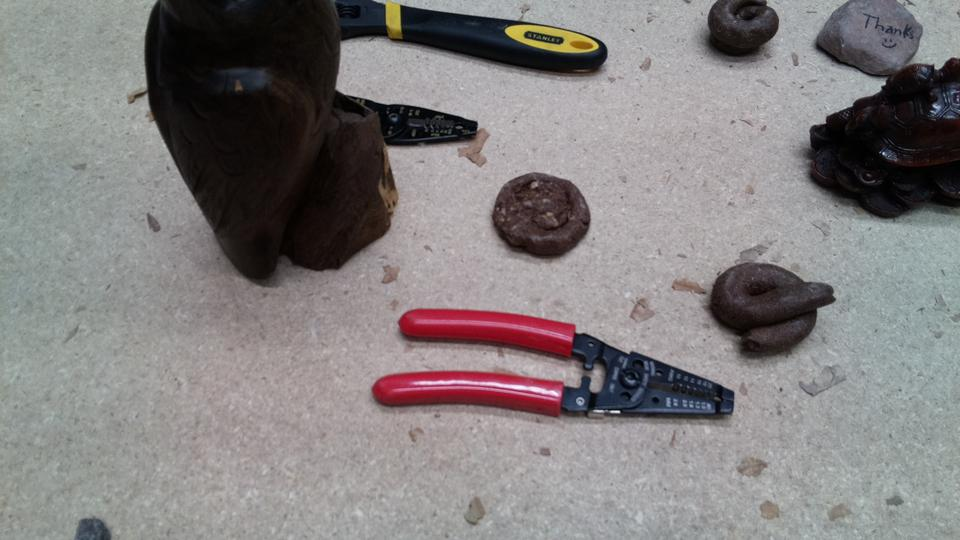poop: (705, 259, 838, 359), (489, 169, 594, 260), (702, 1, 783, 57)
